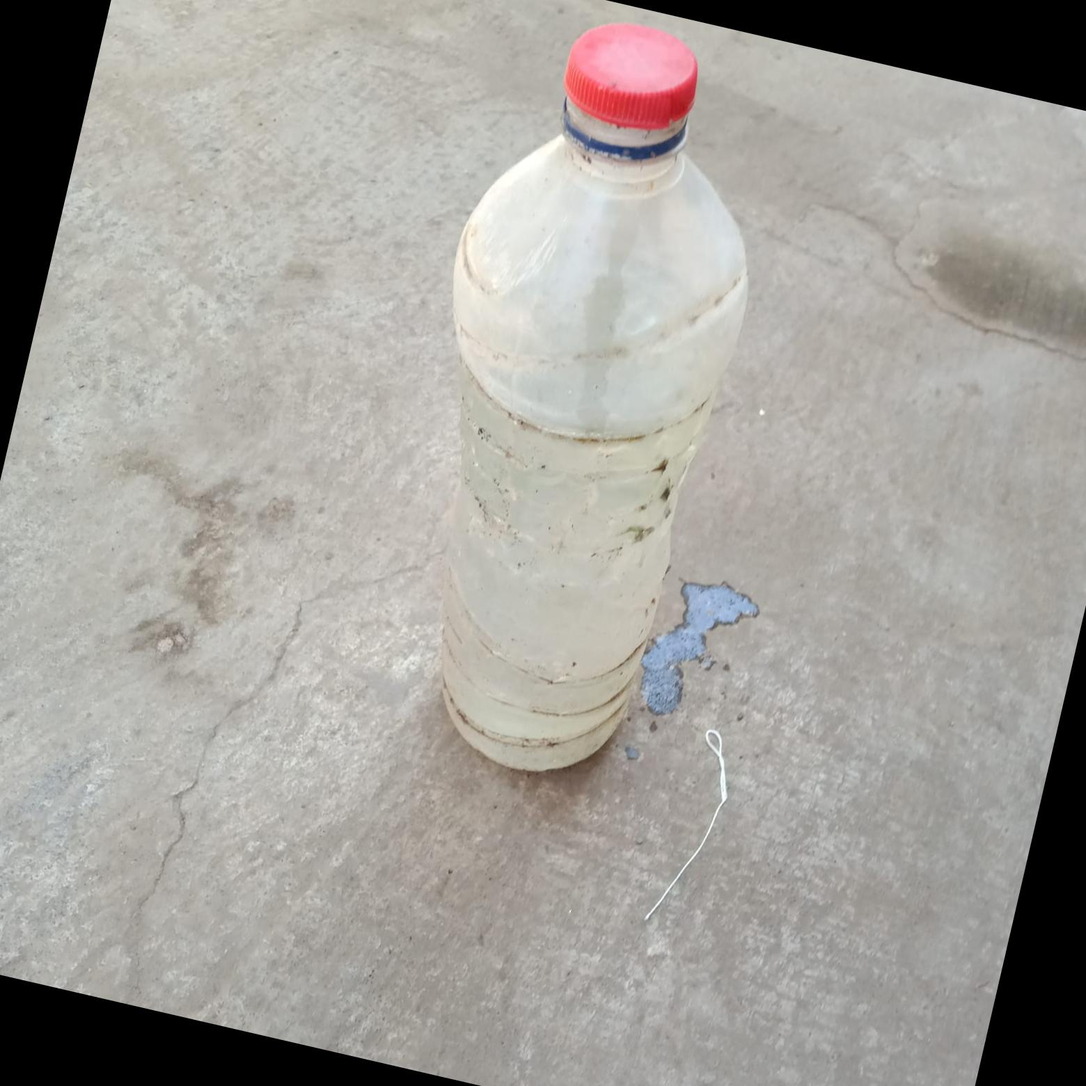Plastik: (343, 0, 801, 797)
